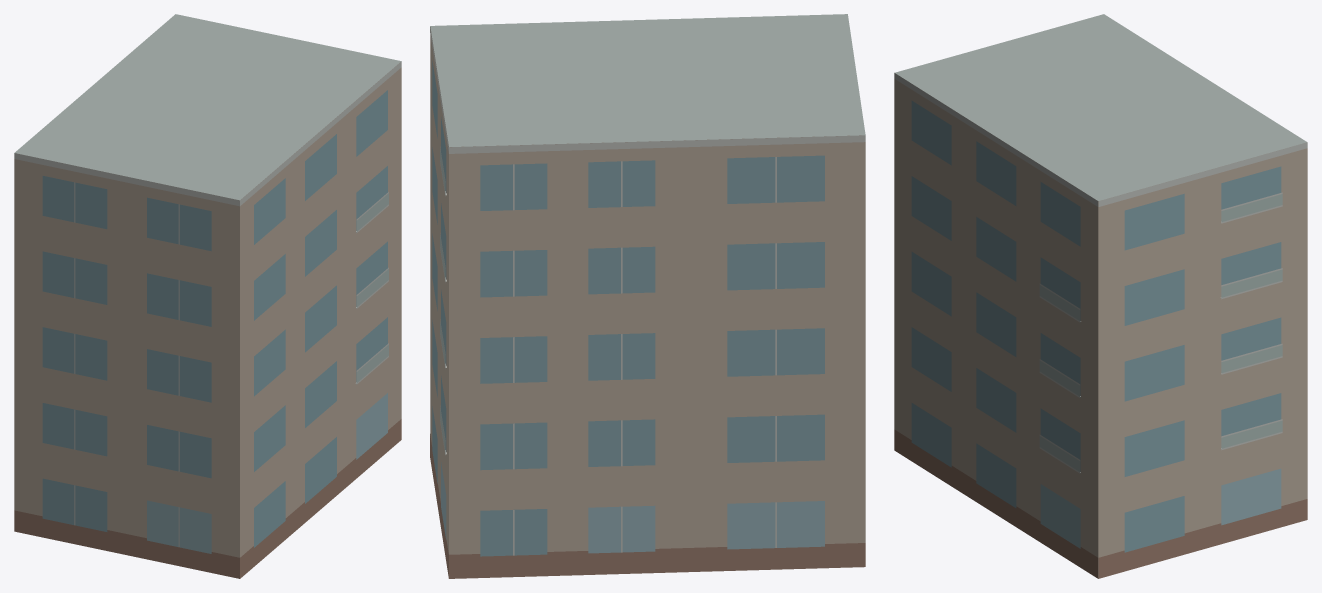
The model's file is survey-upis-33003812.glb.
The picture shows the model from 3 angles, left to right: view 1: azimuth 30°, elevation 25°; view 2: azimuth 150°, elevation 25°; view 3: azimuth 270°, elevation 25°; orthographic projection. The views are drawn at different scales.
Parts seen in each view (by area): view 1: survey-upis-33003812.tmp; view 2: survey-upis-33003812.tmp; view 3: survey-upis-33003812.tmp.
Part boxes in pixels (x1,y1,x2,y2): survey-upis-33003812.tmp: [14, 14, 401, 578]; survey-upis-33003812.tmp: [430, 14, 865, 578]; survey-upis-33003812.tmp: [894, 14, 1307, 578].
Bounding box in the file's own units: 16.38 × 15.4 × 15.27.
